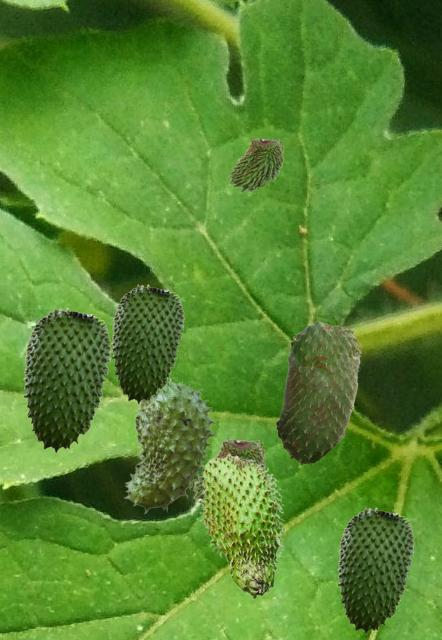guyabano: (123, 377, 218, 513), (23, 307, 110, 452), (199, 453, 285, 598), (275, 320, 361, 465), (337, 507, 413, 633), (111, 284, 183, 403), (192, 436, 265, 503), (228, 136, 283, 191)
